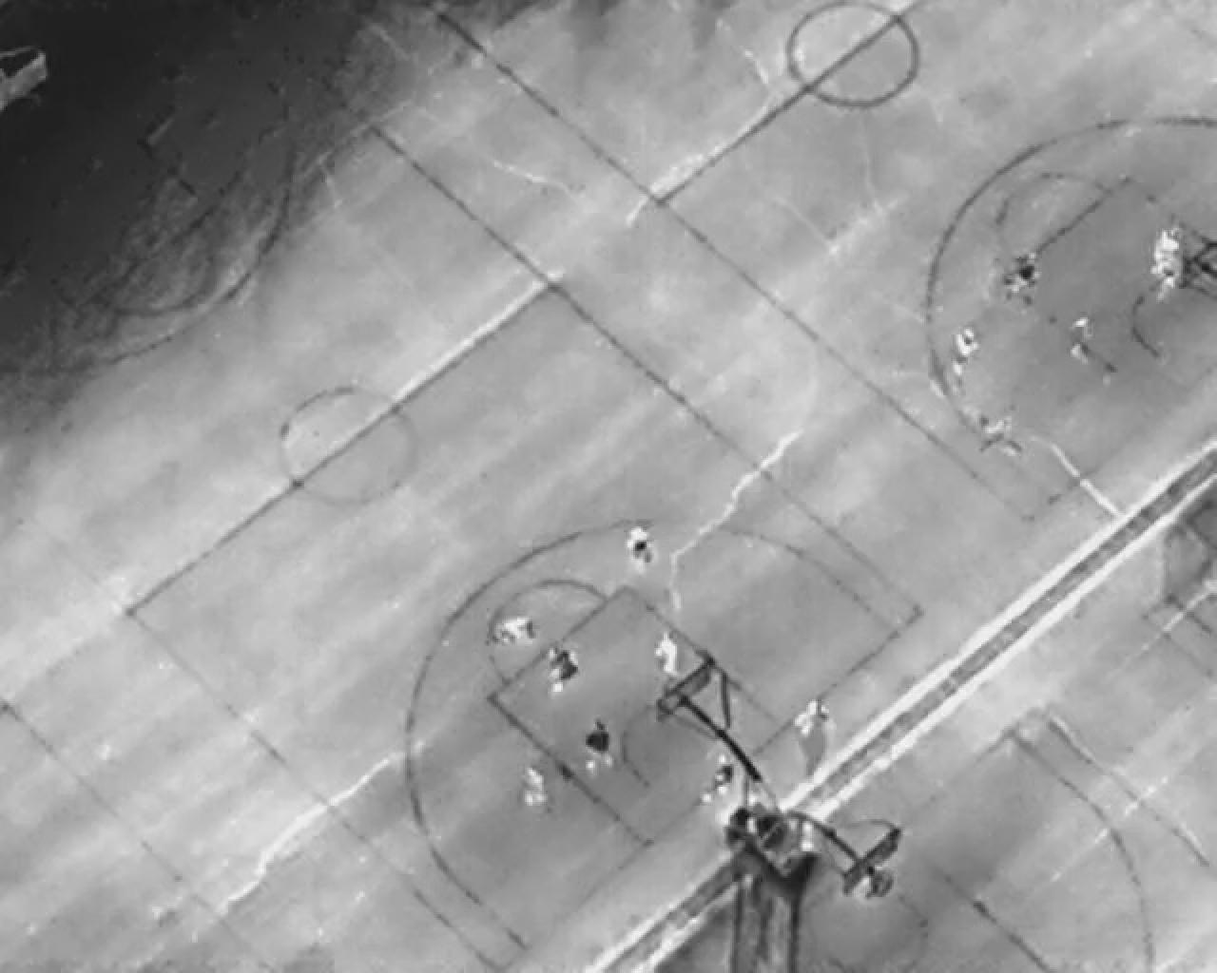person: (547, 643, 577, 695), (585, 715, 611, 773), (710, 752, 737, 803), (800, 700, 828, 742), (524, 765, 547, 812), (657, 630, 680, 677), (1075, 307, 1094, 360), (628, 525, 653, 565), (501, 617, 537, 643), (957, 326, 976, 375), (1161, 258, 1180, 297)
